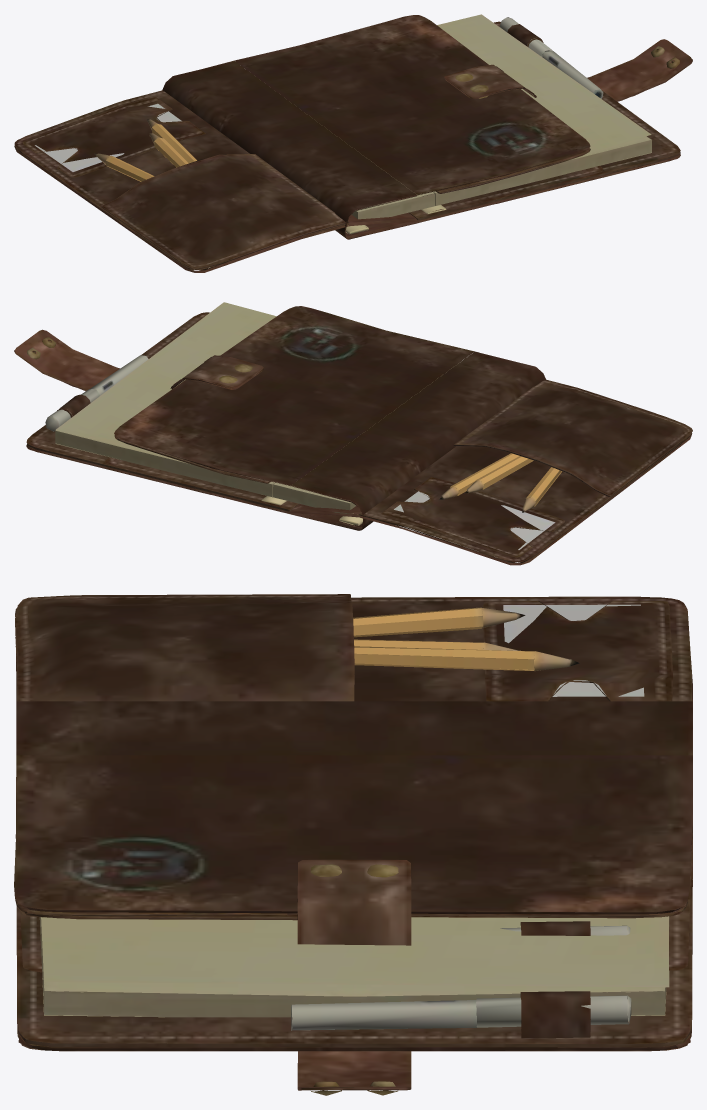
The model's file is ph_binders.glb.
3 views of the same model, one above another, from view 1: azimuth 30°, elevation 25°; view 2: azimuth 150°, elevation 25°; view 3: azimuth 270°, elevation 25° (orthographic). The views are drawn at different scales.
Parts seen in each view (by area): view 1: piece_1, piece_0; view 2: piece_1, piece_0; view 3: piece_0, piece_1.
Part boxes in pixels (bbox=[...]): piece_1: bbox=[162, 15, 602, 239]; piece_0: bbox=[14, 14, 692, 272]; piece_1: bbox=[105, 306, 545, 530]; piece_0: bbox=[14, 302, 692, 565]; piece_0: bbox=[15, 594, 692, 1095]; piece_1: bbox=[14, 701, 692, 972].
Bounding box in the file's own units: 0.3651 × 0.0251 × 0.1999.
Materials: 1 (1 with a texture image).
